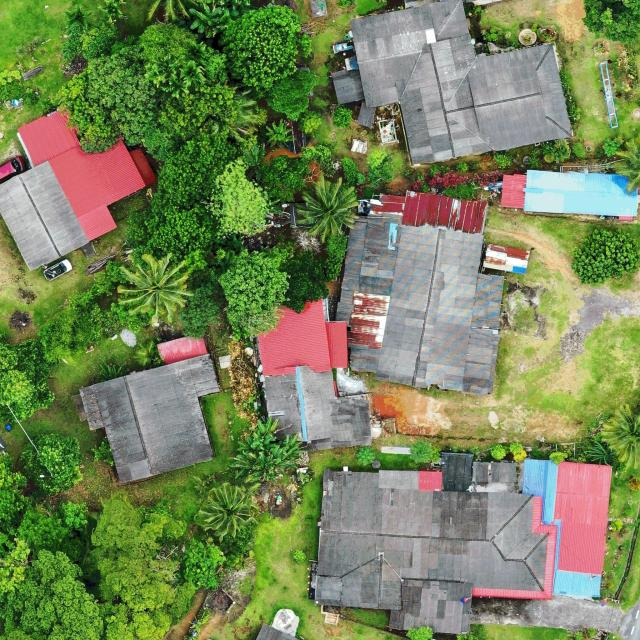Tree: (90, 493, 188, 608), (218, 3, 312, 96), (218, 245, 292, 340), (116, 253, 193, 325), (0, 338, 56, 423), (294, 175, 362, 243), (213, 157, 269, 236), (570, 226, 639, 286), (230, 432, 306, 484), (21, 432, 82, 495), (201, 482, 259, 538), (578, 0, 640, 43), (266, 70, 319, 119), (602, 402, 640, 470), (182, 537, 226, 590), (614, 137, 640, 195), (189, 5, 222, 38), (407, 438, 440, 467), (266, 119, 296, 148), (216, 0, 252, 24), (251, 418, 279, 443), (297, 110, 322, 136), (330, 104, 354, 128), (405, 625, 434, 640), (356, 446, 376, 467), (508, 442, 528, 462), (493, 151, 512, 170), (488, 443, 508, 460), (548, 450, 570, 465), (291, 548, 307, 564)
